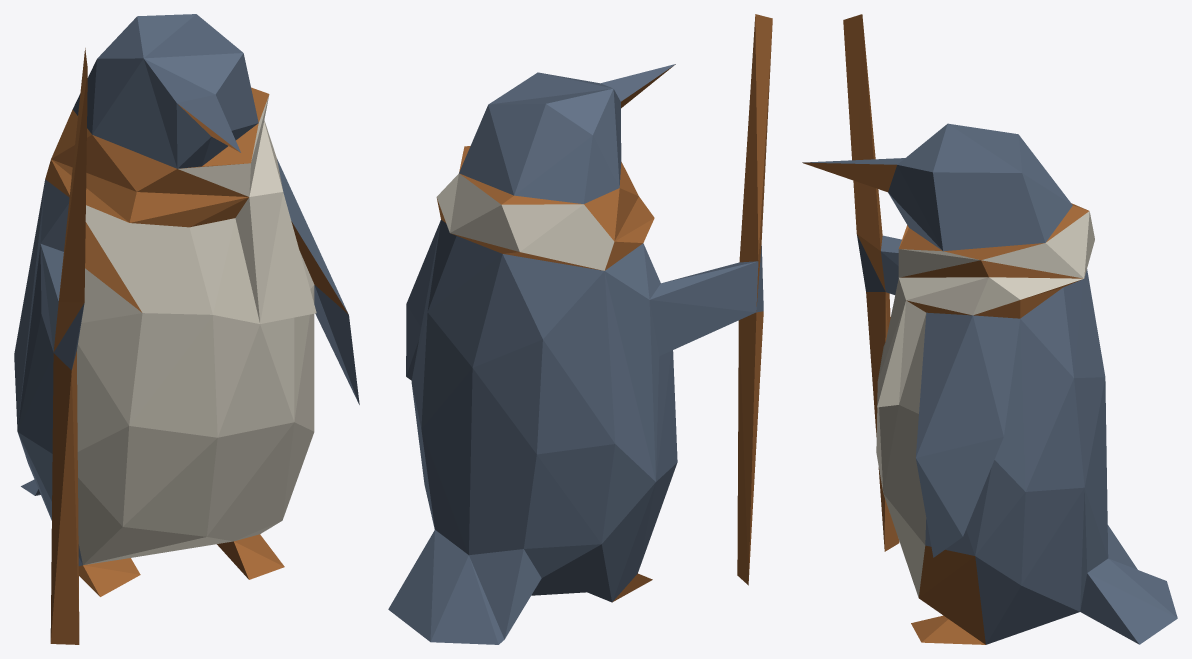
The picture shows the model from 3 angles, left to right: view 1: azimuth 30°, elevation 25°; view 2: azimuth 150°, elevation 25°; view 3: azimuth 270°, elevation 25°; orthographic projection. The views are drawn at different scales.
Parts seen in each view (by area): view 1: lion-200; view 2: lion-200; view 3: lion-200.
Part boxes in pixels (left/top/right/bottom): lion-200: left=14, top=14, right=359, bottom=644; lion-200: left=388, top=14, right=772, bottom=644; lion-200: left=802, top=14, right=1177, bottom=644.
Size of the model in its own units: 0.5859 by 0.9952 by 0.6351.
